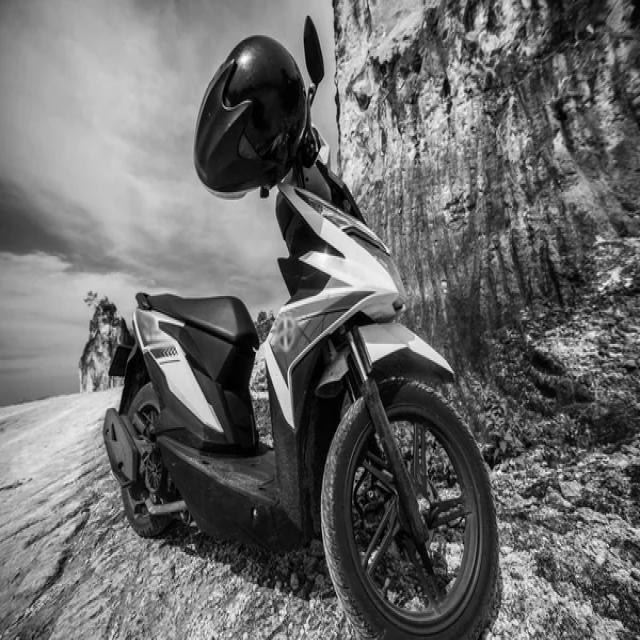Motorcycle: (94, 36, 529, 620)
